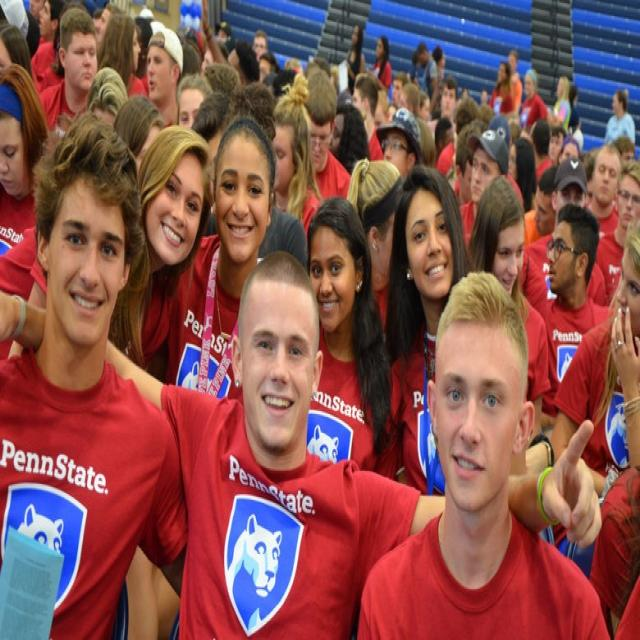body: (106, 248, 445, 640), (338, 262, 619, 638), (0, 119, 217, 374), (163, 108, 280, 411), (377, 162, 478, 498), (331, 68, 552, 197), (305, 194, 405, 472), (549, 217, 640, 497), (463, 172, 551, 445), (0, 60, 53, 363), (346, 155, 408, 341), (294, 67, 354, 249), (196, 9, 282, 128), (92, 0, 156, 153), (37, 3, 99, 133), (453, 125, 512, 254), (594, 158, 640, 308), (144, 22, 187, 128), (582, 142, 624, 236), (518, 66, 550, 142), (32, 0, 69, 55), (415, 41, 442, 114), (604, 89, 636, 146), (342, 19, 365, 98), (552, 121, 577, 188), (488, 58, 517, 115), (0, 5, 32, 56), (172, 73, 198, 130), (551, 73, 573, 134), (282, 54, 308, 105), (372, 34, 394, 94), (508, 48, 523, 117), (613, 135, 640, 167), (567, 83, 580, 137), (431, 42, 446, 72), (410, 48, 420, 70)
